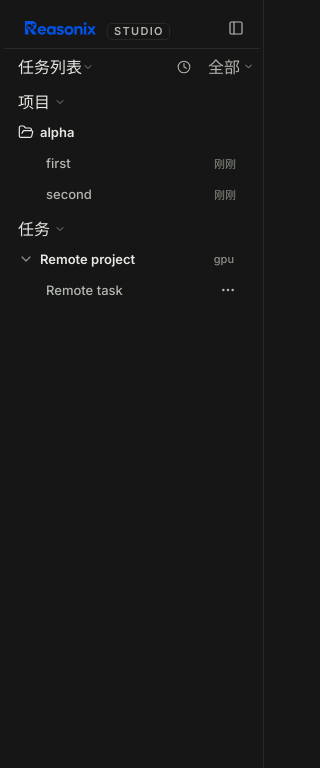
reports an empty unified pinned filter
Click the button with class "session-filter-trigger": (231, 67) 200,55 -> 262,79
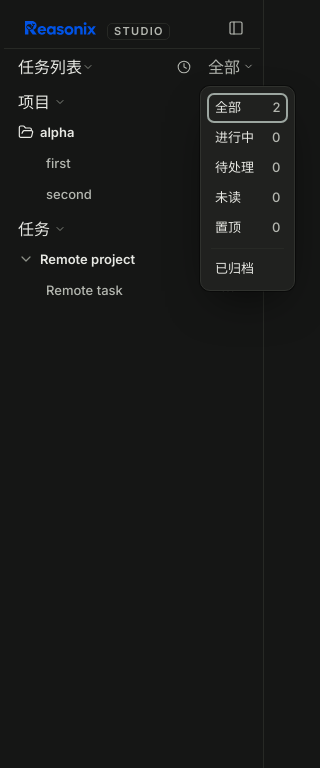
Click the menu item "置顶 0": (248, 228) 207,213 -> 288,243
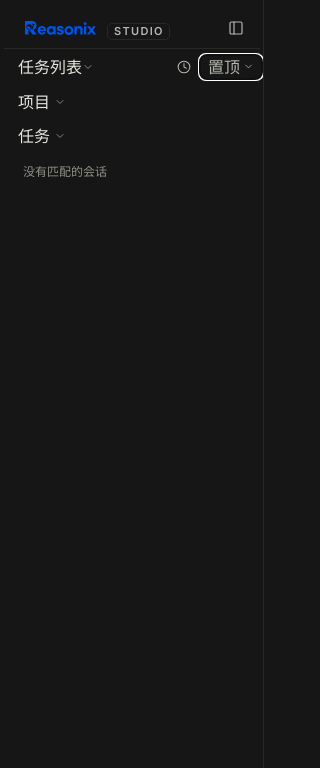
Expected: the text "没有匹配的会话" is shown, 23,164 -> 107,179
